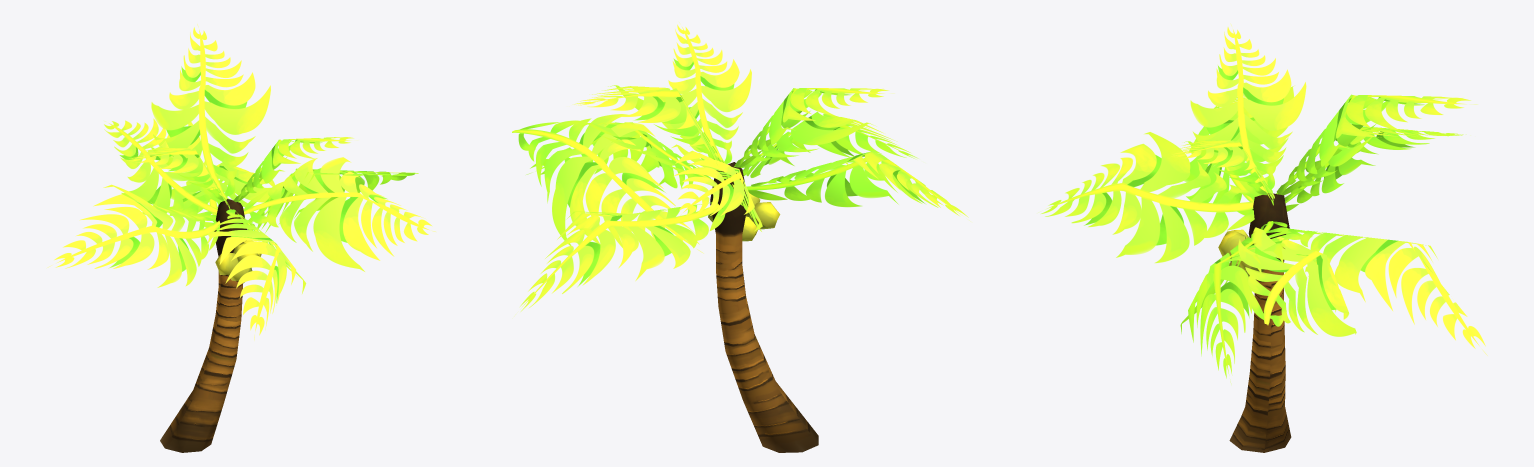
Rendered from PalmTree.glb.
The picture shows the model from 3 angles, left to right: view 1: azimuth 30°, elevation 25°; view 2: azimuth 150°, elevation 25°; view 3: azimuth 270°, elevation 25°; orthographic projection. The views are drawn at different scales.
Parts seen in each view (by area): view 1: hamac.008; view 2: hamac.008; view 3: hamac.008.
Boxes of the visible parts, x1,y1,x2,y2 form: hamac.008: (47, 24, 435, 452); hamac.008: (512, 22, 968, 452); hamac.008: (1041, 24, 1487, 452).
Size of the model in its own units: 13.57 by 10.42 by 11.79.
Materials: 2 (2 with a texture image).
